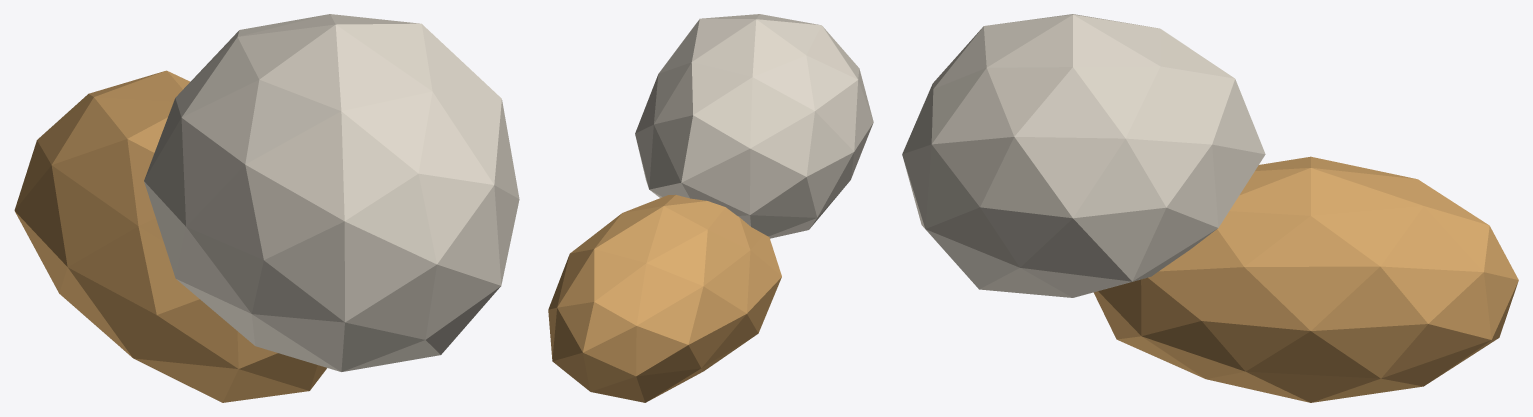
Rendered from companion_tail.glb.
3 renders of one model, left to right at view 1: azimuth 30°, elevation 25°; view 2: azimuth 150°, elevation 25°; view 3: azimuth 270°, elevation 25°, orthographic. The views are drawn at different scales.
Visible parts, largest first — view 1: companion_tail; view 2: companion_tail; view 3: companion_tail.
Boxes of the visible parts, box(x1,y1,x2,y2) form: companion_tail: box(14, 14, 519, 402); companion_tail: box(548, 14, 873, 402); companion_tail: box(902, 14, 1518, 402).
Size of the model in its own units: 0.1497 by 0.2076 by 0.3112.
